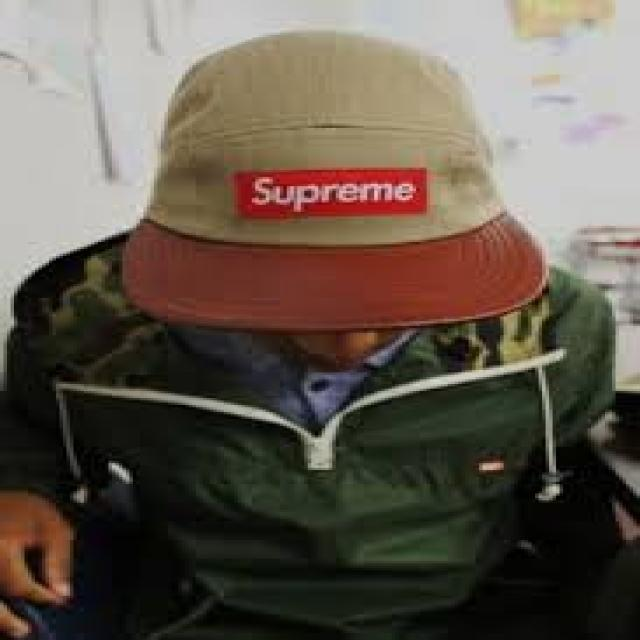3_gorra: (122, 33, 549, 336)
